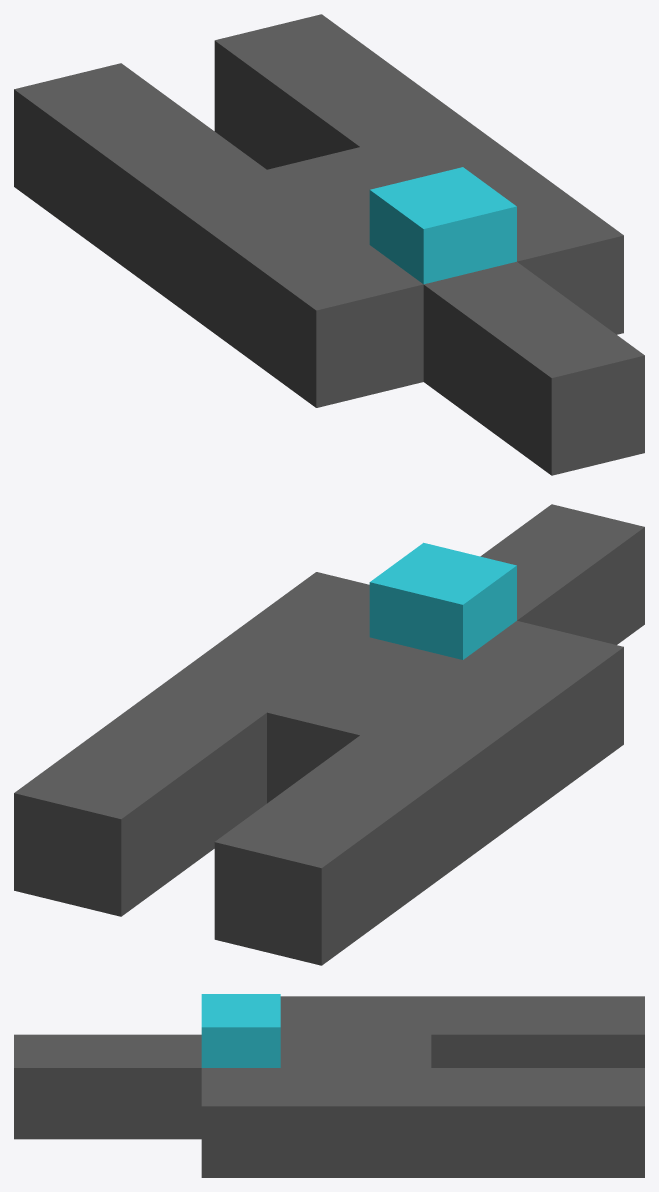
Rendered from spaceship.glb.
3 views of the same model, one above another, from view 1: azimuth 30°, elevation 25°; view 2: azimuth 150°, elevation 25°; view 3: azimuth 270°, elevation 25° (orthographic). The views are drawn at different scales.
Visible parts, largest first — view 1: Cube; view 2: Cube; view 3: Cube.
Part boxes in pixels (bbox=[...]): Cube: bbox=[14, 14, 644, 475]; Cube: bbox=[14, 504, 644, 965]; Cube: bbox=[14, 994, 644, 1177].
Bounding box in the file's own units: 6.6 × 3.13 × 15.99.
